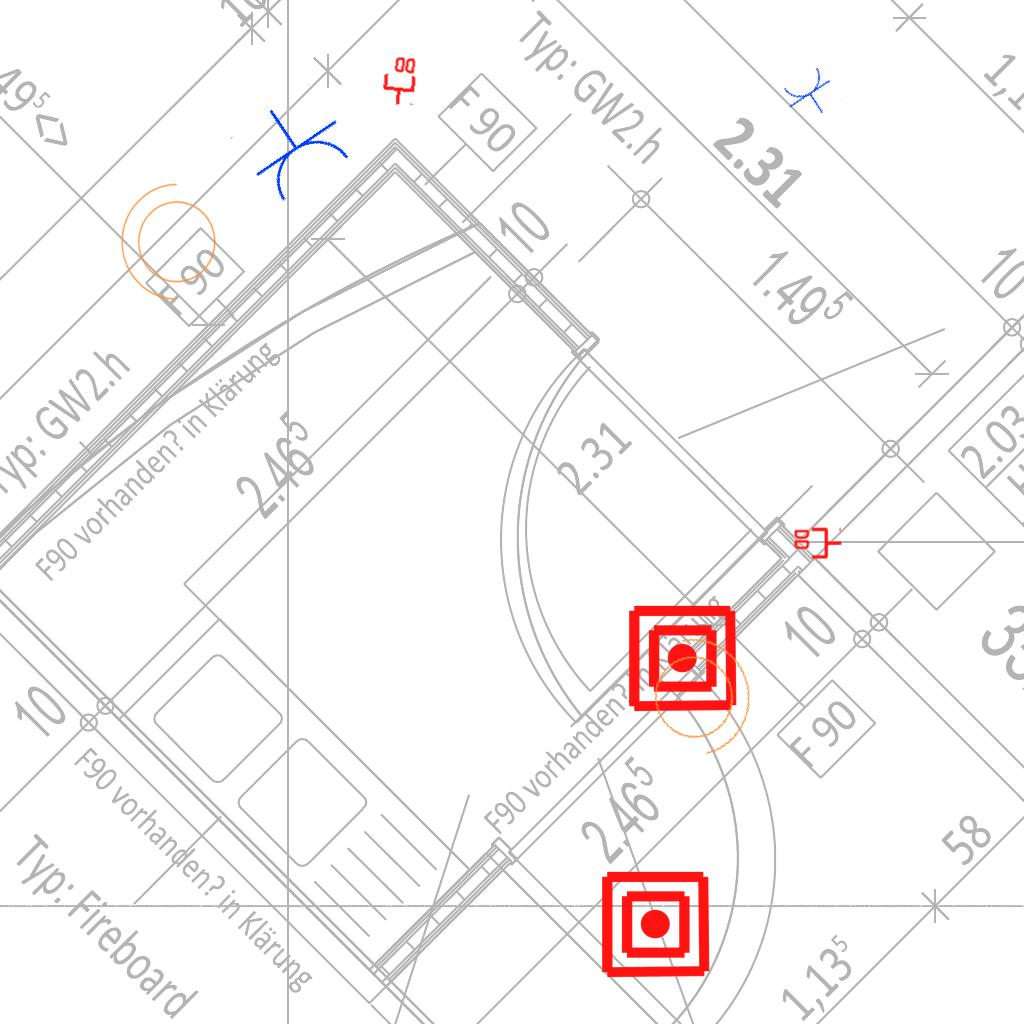Datenanschluss_zweifach: (379, 53, 419, 108), (792, 527, 843, 561)
NAM-Nichtautomatischer_Melder: (626, 602, 739, 715), (599, 868, 712, 981)
Scheinwerfer_fuer_Alarmbeleuchtung: (629, 616, 767, 770), (116, 179, 228, 311)
Schukosteckdose_einfach: (228, 82, 360, 211), (778, 62, 844, 127)
